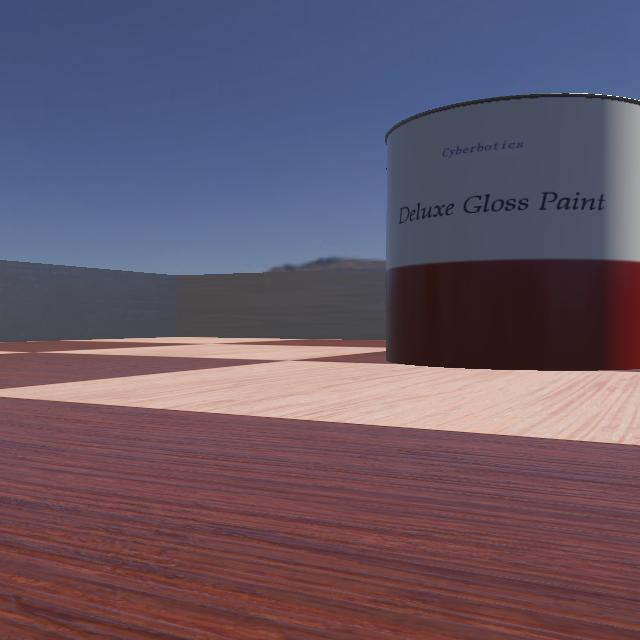paint-bucket: (370, 92, 640, 374)
